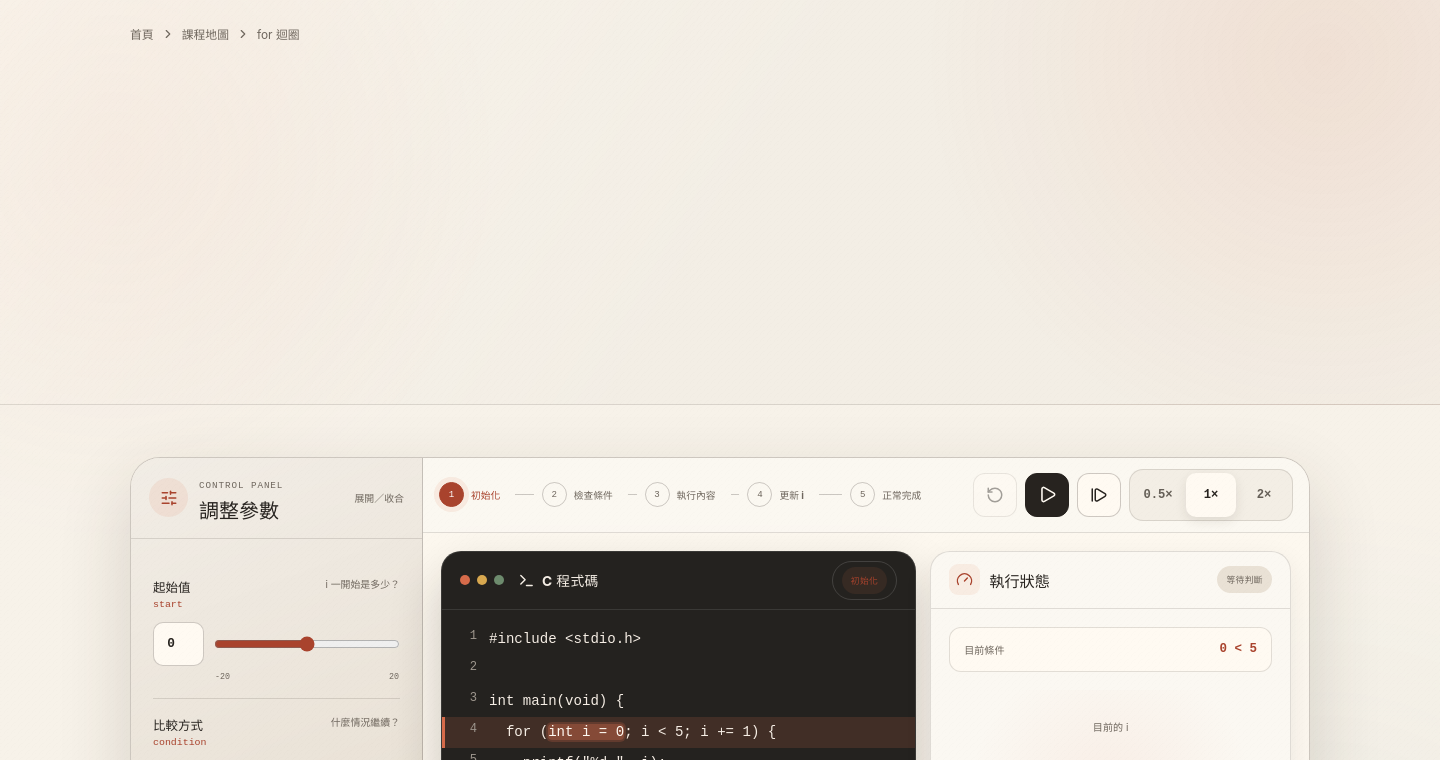
Test: ForLoopLabPage execution controls › keeps nested table exploration isolated from the saved for configuration
Replace the text in the number field labelled "起始值 start" with "3" at [178, 644], box [153,622,204,666]
(page scrolled)
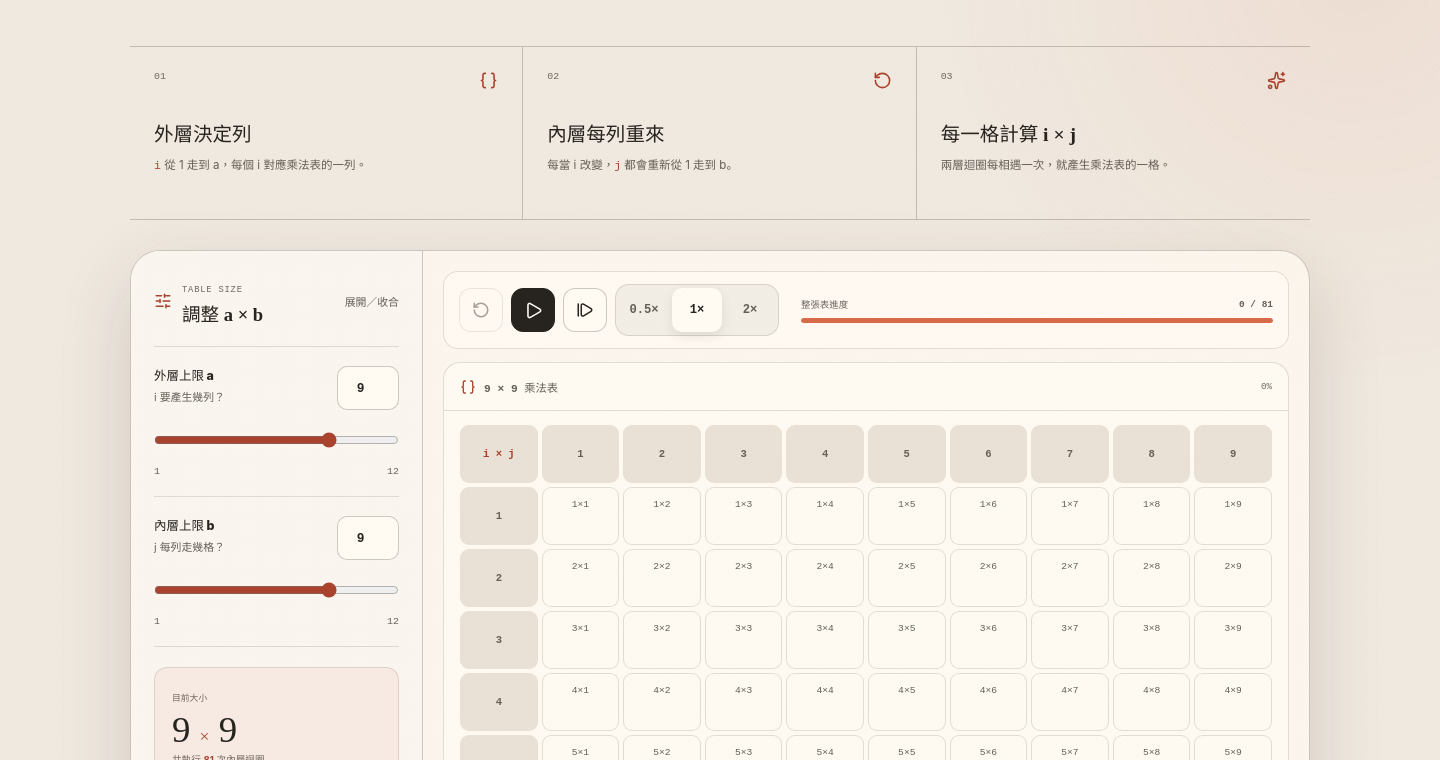
Replace the text in the number field labelled "外層上限 a i 要產生幾列？" with "4" at [368, 388], box [337,366,399,410]
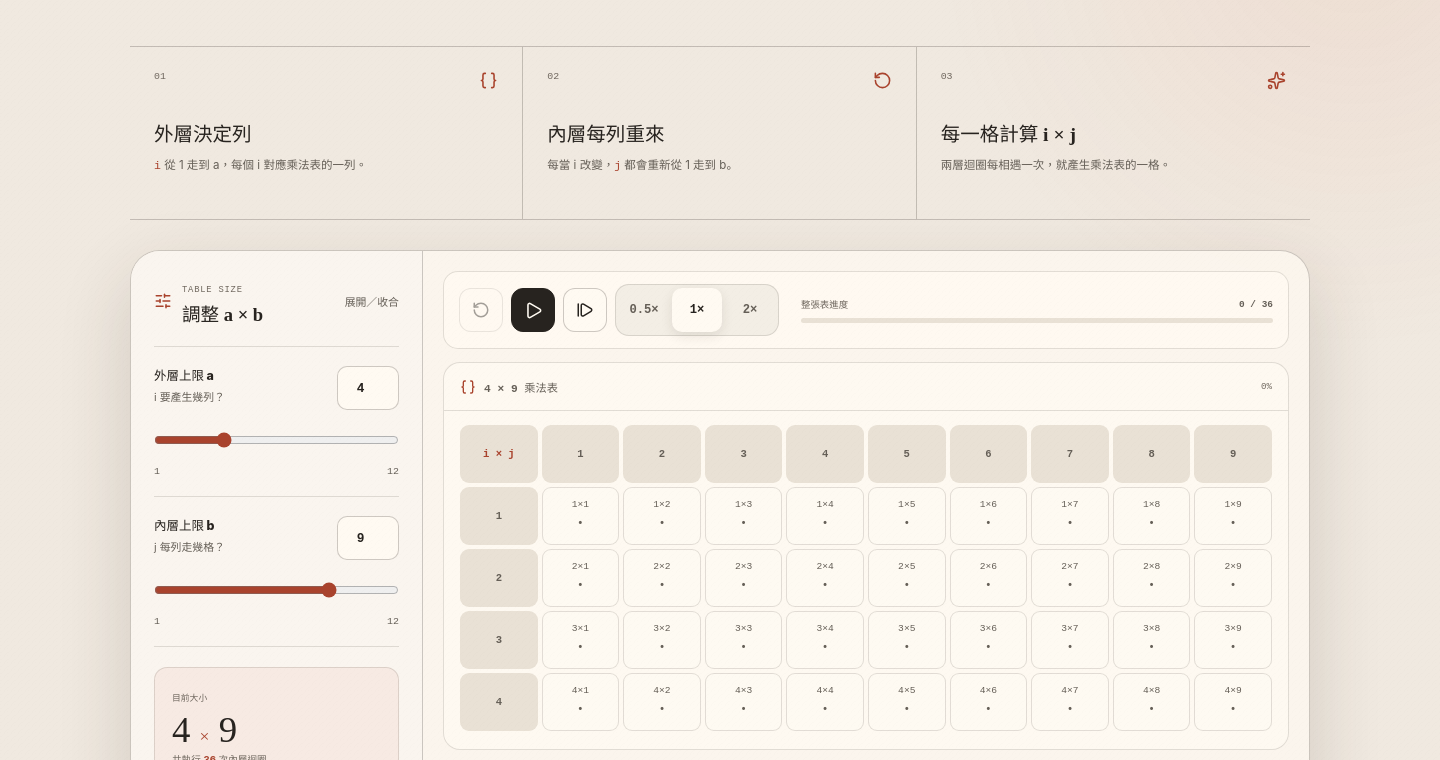
Expected: the table named "4 × 9 乘法表，已完成 0 格" is shown, [456,421,1276,735]
